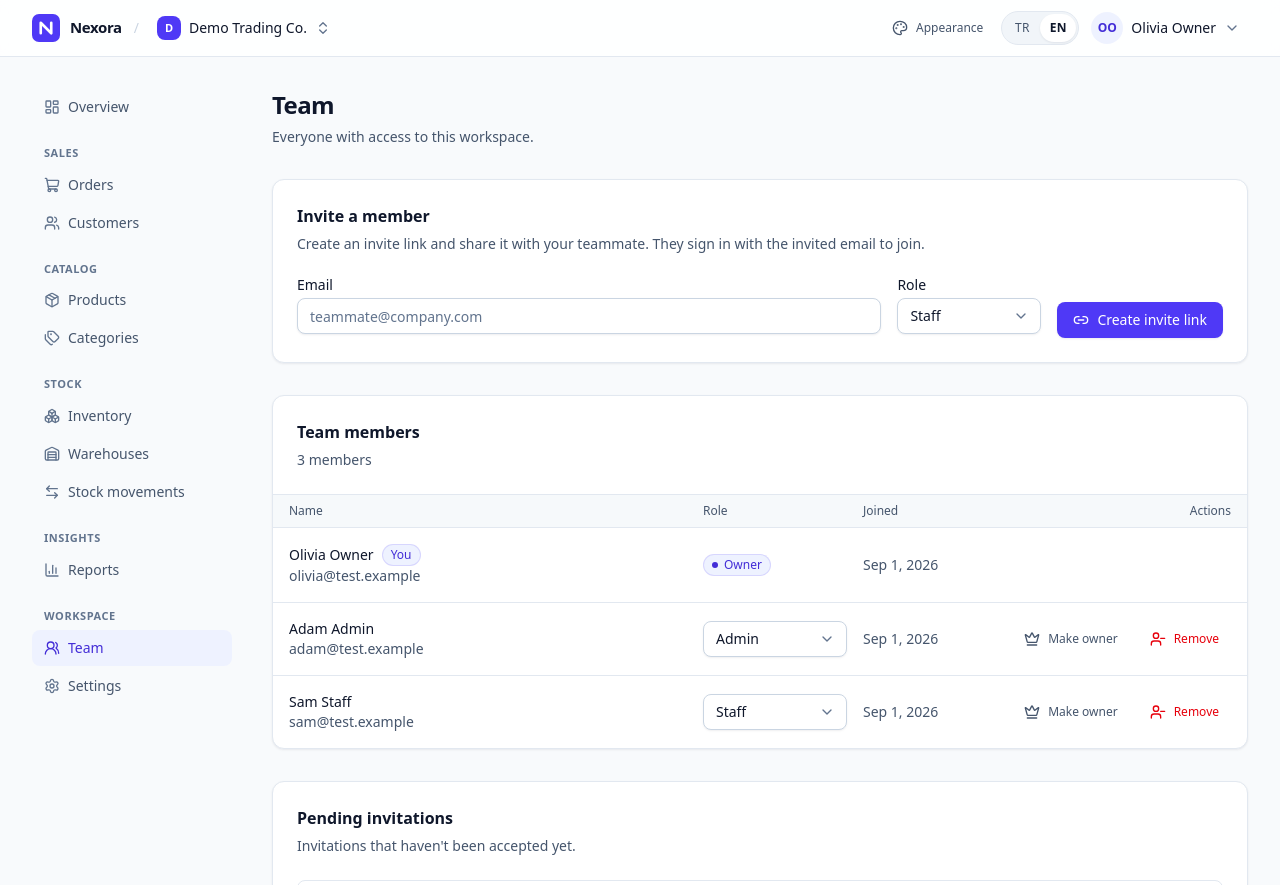
Test: TeamPage › asks for confirmation before removing a member
Click the button with aria-label "Remove Sam Staff". click: (1184, 712)
box: [1138,696,1231,728]
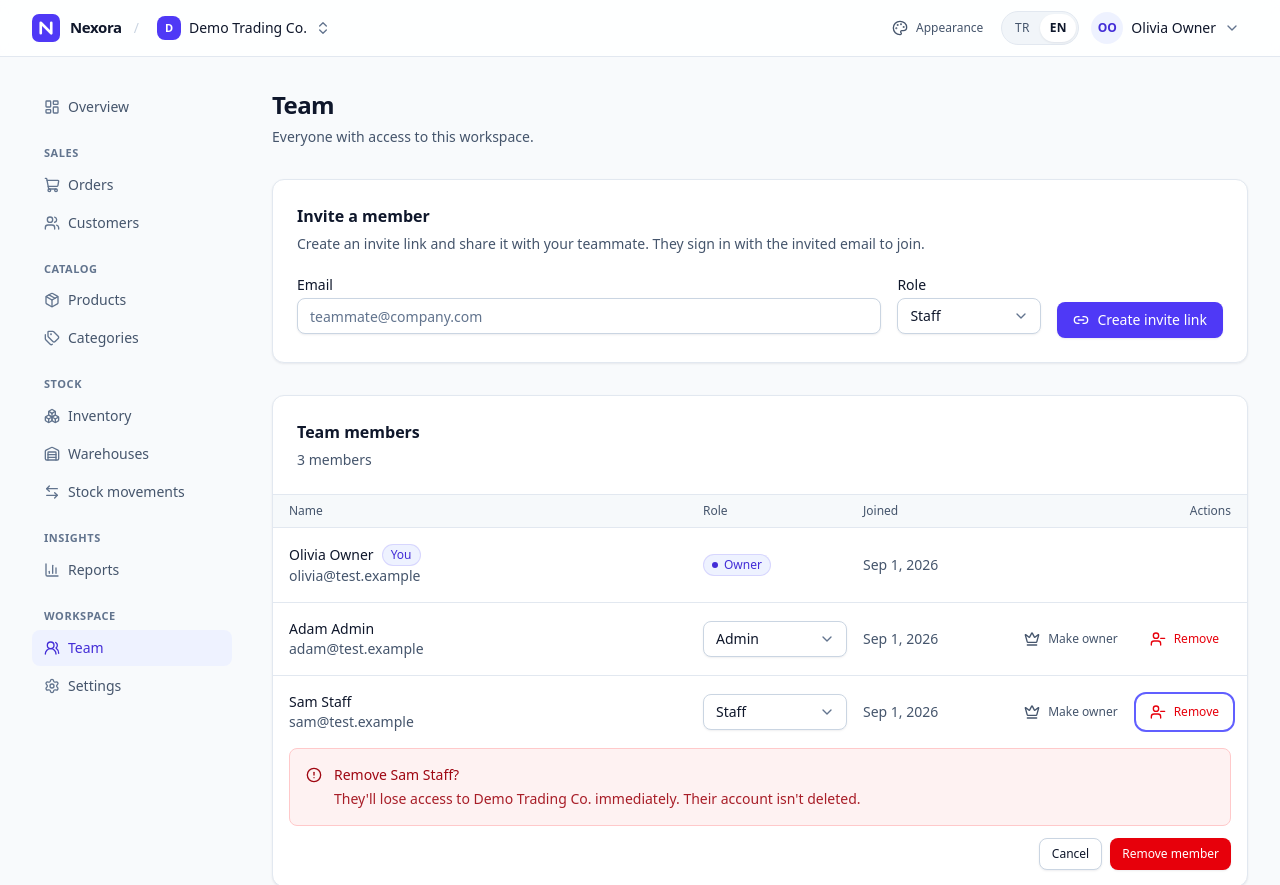
Check: the text "Remove Sam Staff?" is shown, box [334,765,459,784]
Click the button "Cancel". click: (1071, 854)
box: [1039,838,1102,870]
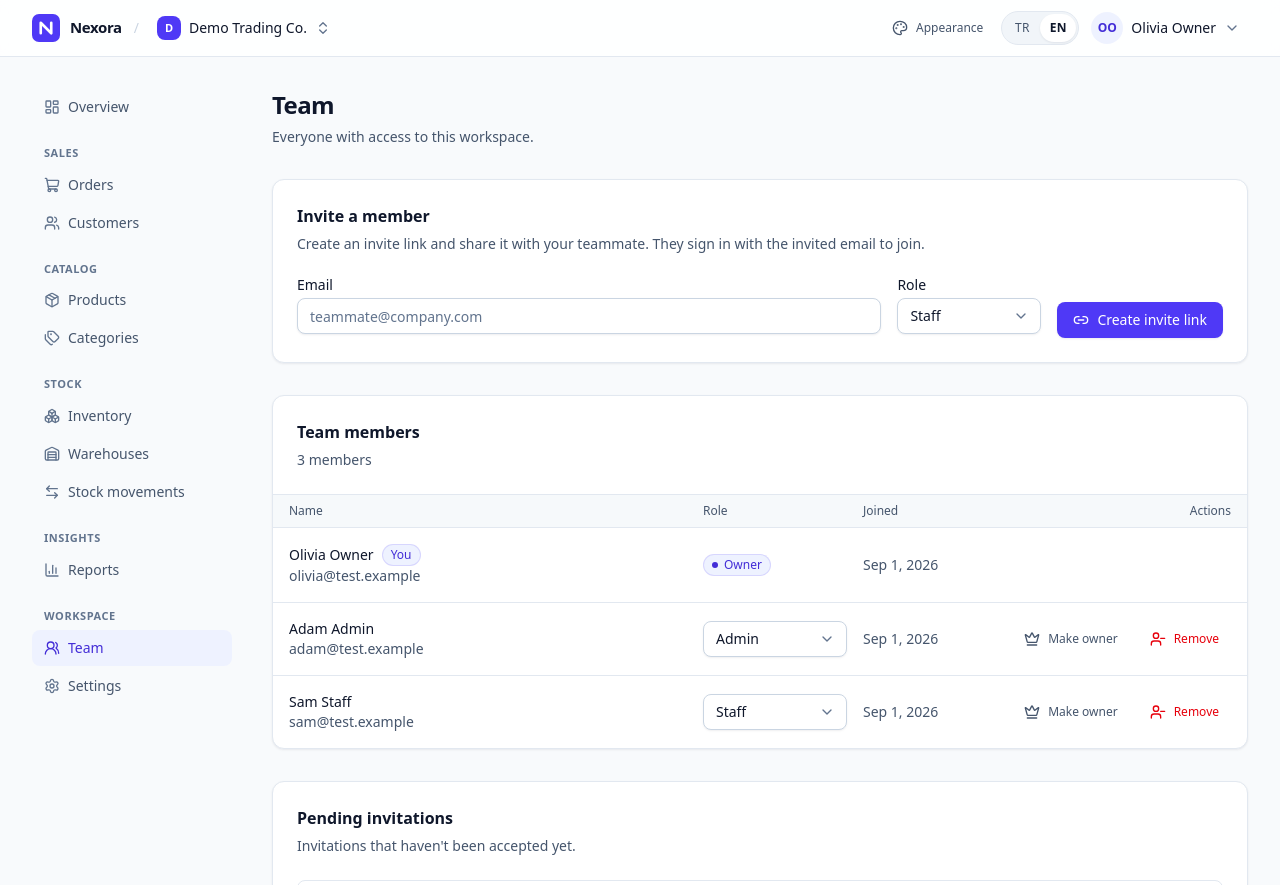
Check: the text "Remove Sam Staff?" is not shown
Click the button with aria-label "Remove Sam Staff". click: (1184, 712)
box: [1138,696,1231,728]
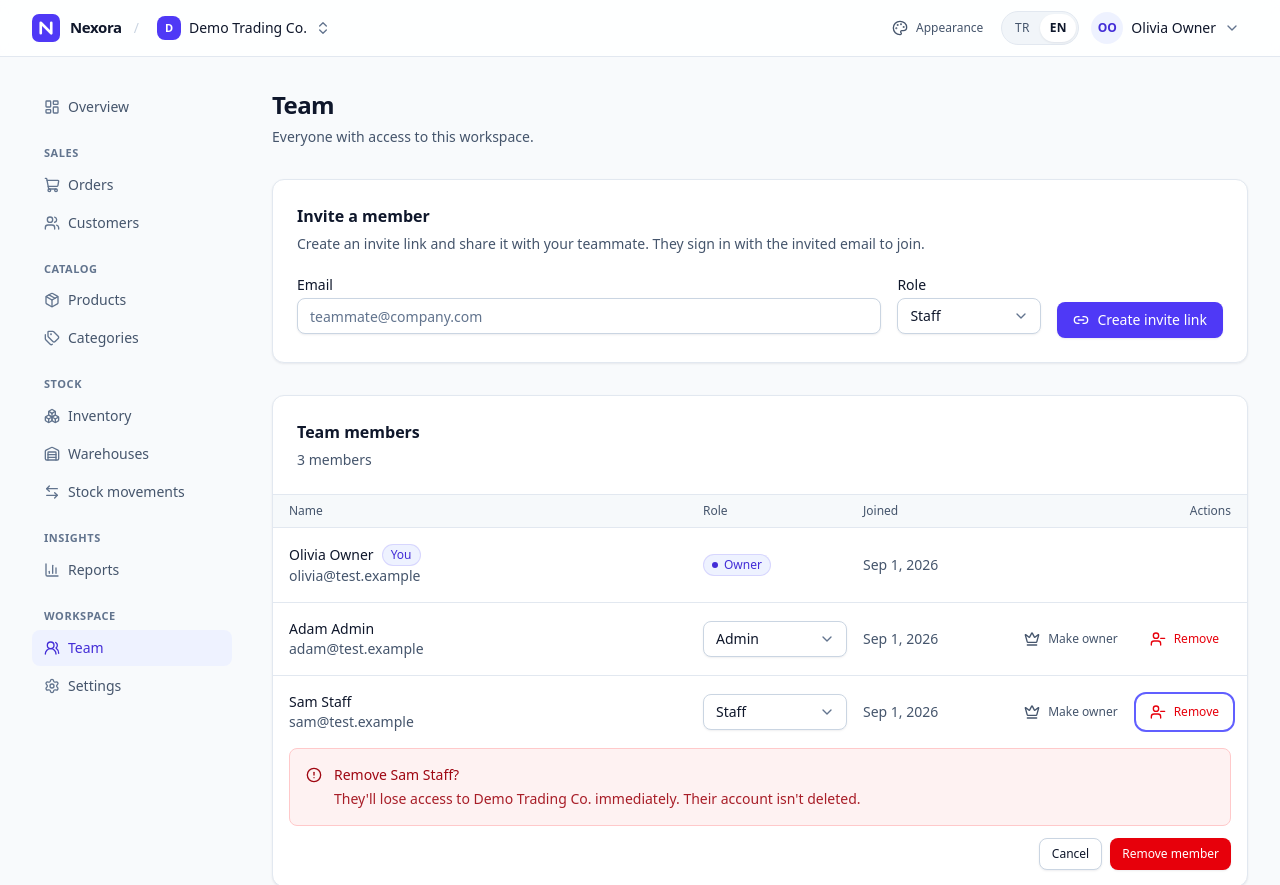
Click the button "Remove member". click: (1171, 854)
box: [1110,838,1231,870]
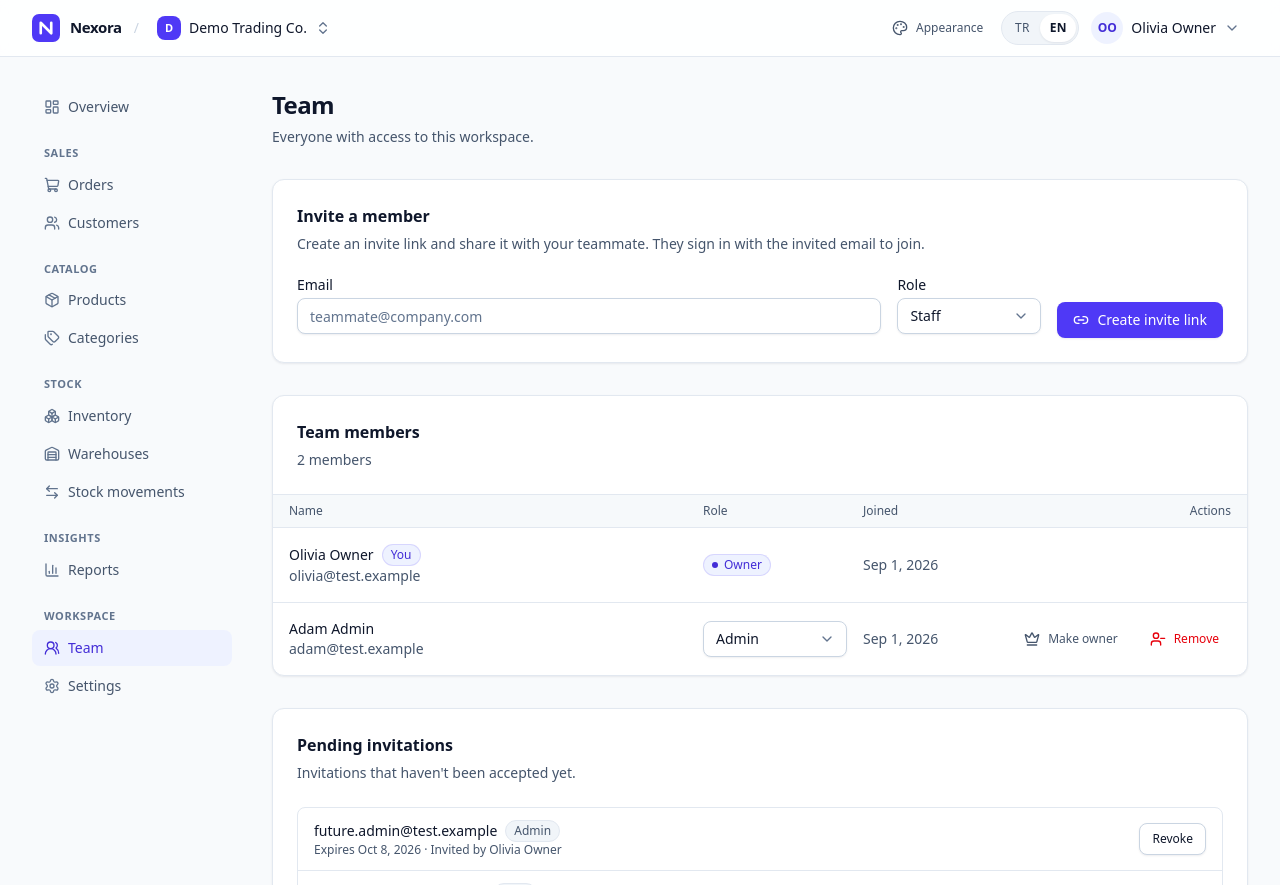
Check: the text "Sam Staff" is gone
